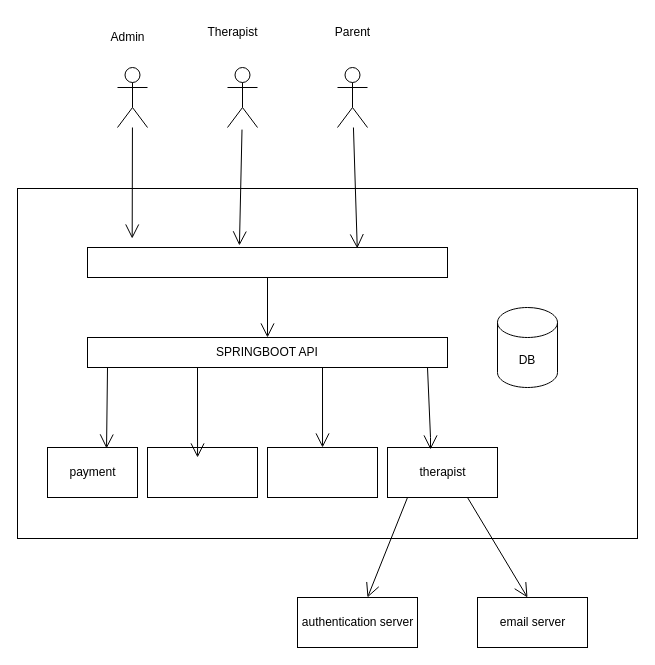
Image size: 655x665. Some labels were removed from this diagram. Each missing label, with the box of its shape:
medical records: (146, 446, 258, 498)
patient/child: (266, 446, 378, 498)
WEB APPLICATION: (86, 246, 448, 278)
